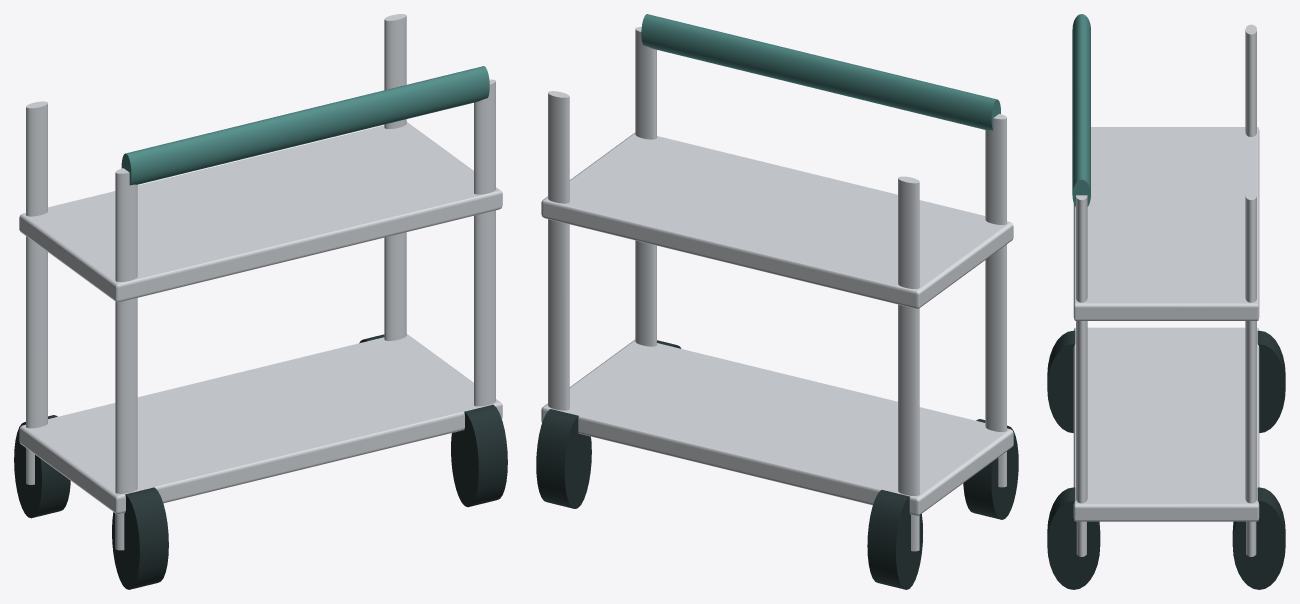
The model's file is wp-chariot-de-service.glb.
3 views of the same model, side by side, from view 1: azimuth 30°, elevation 25°; view 2: azimuth 150°, elevation 25°; view 3: azimuth 270°, elevation 25° (orthographic). The views are drawn at different scales.
Visible parts, largest first — view 1: wp-chariot-de-service; view 2: wp-chariot-de-service; view 3: wp-chariot-de-service.
Part boxes in pixels (<box>): wp-chariot-de-service: <box>14,14,507,589</box>; wp-chariot-de-service: <box>536,14,1018,589</box>; wp-chariot-de-service: <box>1047,14,1285,589</box>.
Bounding box in the file's own units: 0.8 × 0.85 × 0.45.
